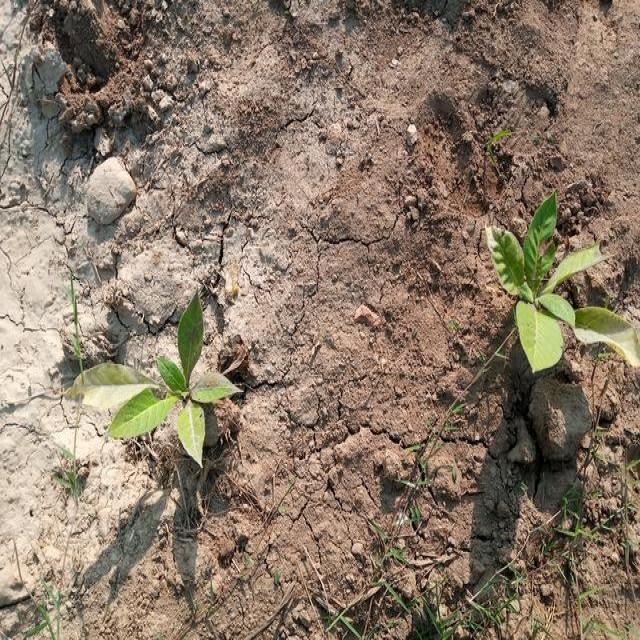crop: (68, 275, 236, 473), (487, 184, 640, 386)
